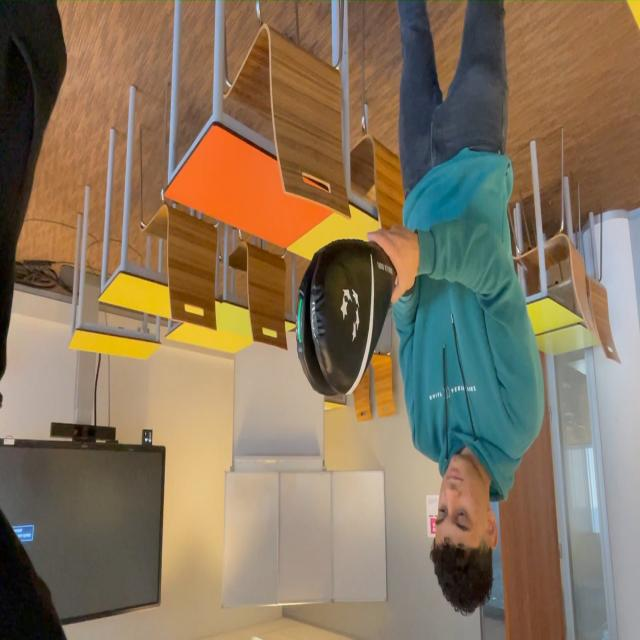paddle: (298, 247, 394, 396)
trigger: (296, 294, 304, 351)
